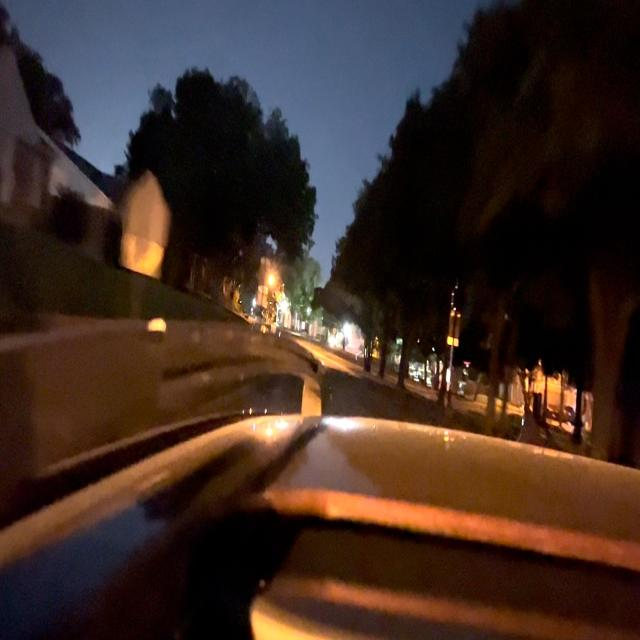back-of-sign: (122, 169, 166, 276)
